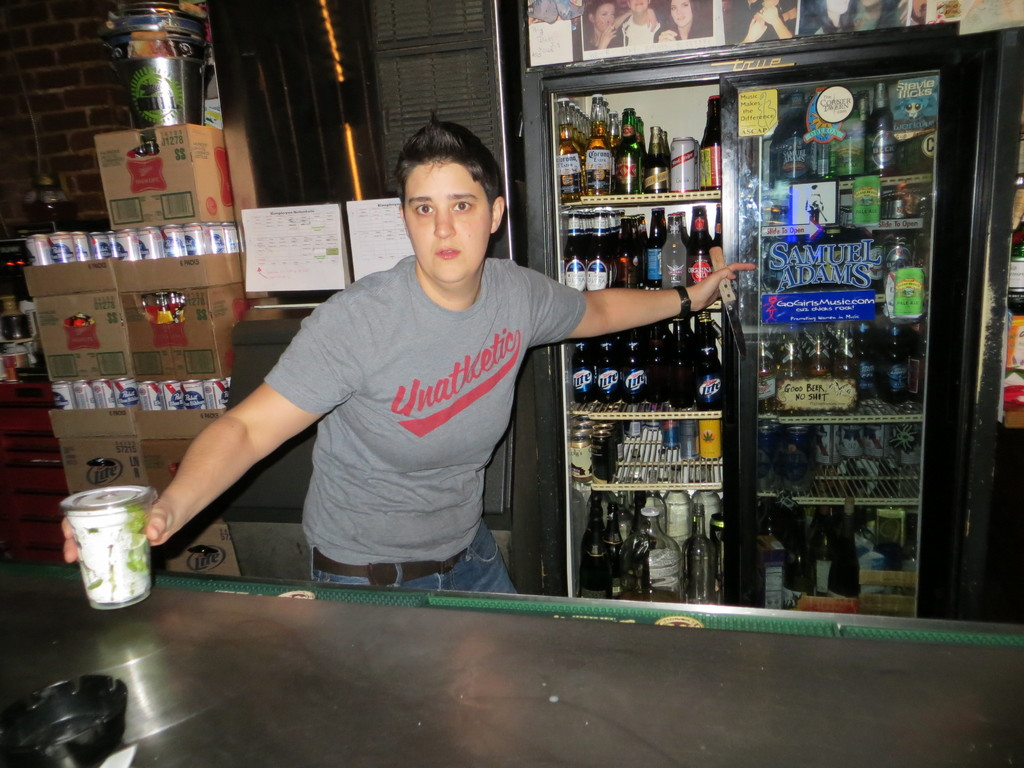Person: (61, 111, 755, 593)
